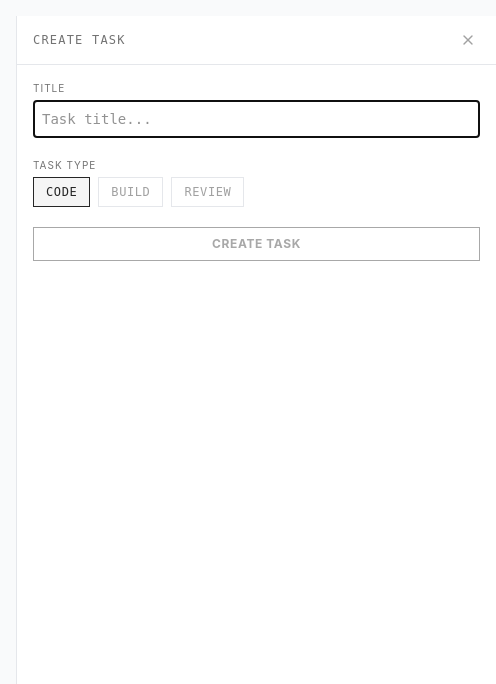
Test: TaskDetail create mode › enables Create button when title has content
Type "Valid task title" into the field with placeholder "Task title..." at (256, 119), box [33,100,480,138]
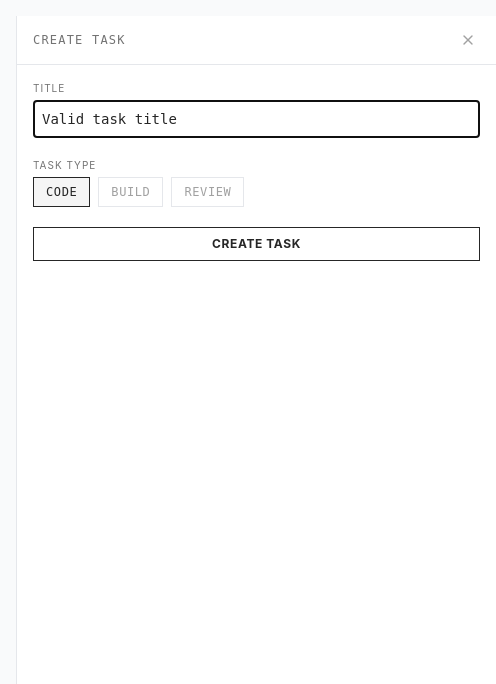
Now the button "Create Task" is enabled, box [33,227,480,261]
